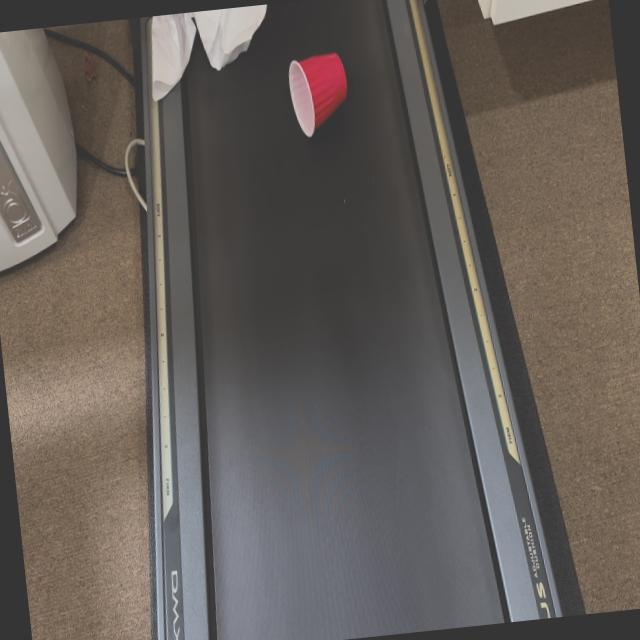Recycle: (282, 40, 385, 154)
Trash: (150, 6, 254, 102)
